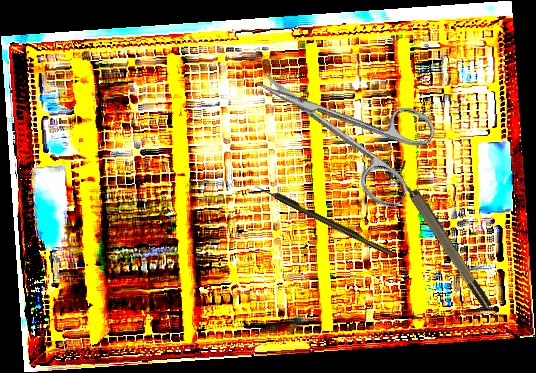Fixation Ring: (386, 160, 495, 316)
Hook Surgical: (253, 181, 394, 258)
Iris Scissors: (237, 33, 446, 213)
